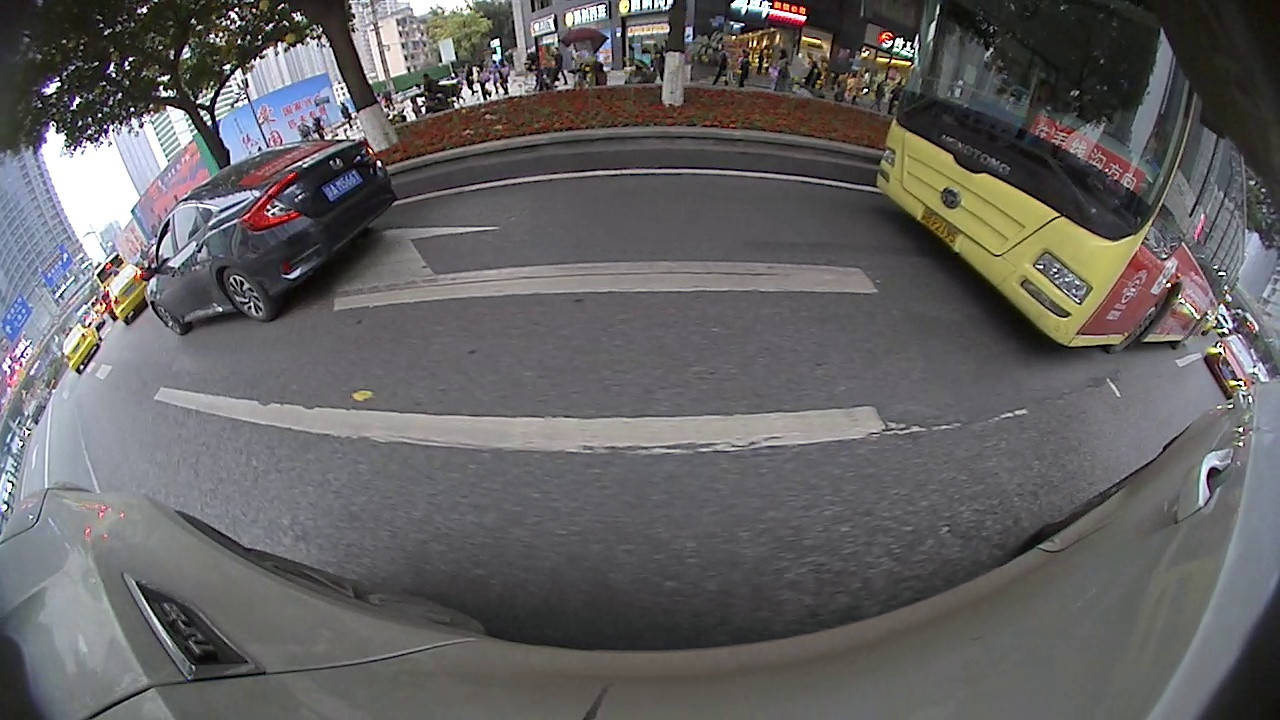car: (74, 183, 227, 308), (556, 58, 729, 116), (190, 123, 315, 197), (479, 55, 620, 112), (1164, 334, 1229, 417)
front: (137, 244, 167, 276), (821, 160, 847, 190), (586, 88, 612, 113)
rear: (737, 143, 772, 182), (89, 283, 108, 308)
rider: (726, 44, 853, 192)
